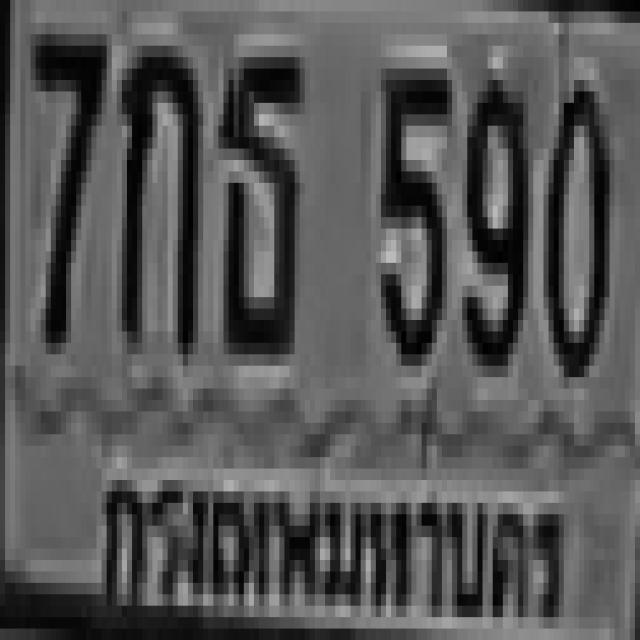0: (544, 68, 604, 366)
10GorGai: (117, 34, 193, 343)
33ThorThong: (216, 46, 302, 343)
5: (376, 57, 447, 354)
7: (30, 23, 101, 343)
9: (460, 68, 526, 366)
Bangkok: (95, 443, 572, 636)
